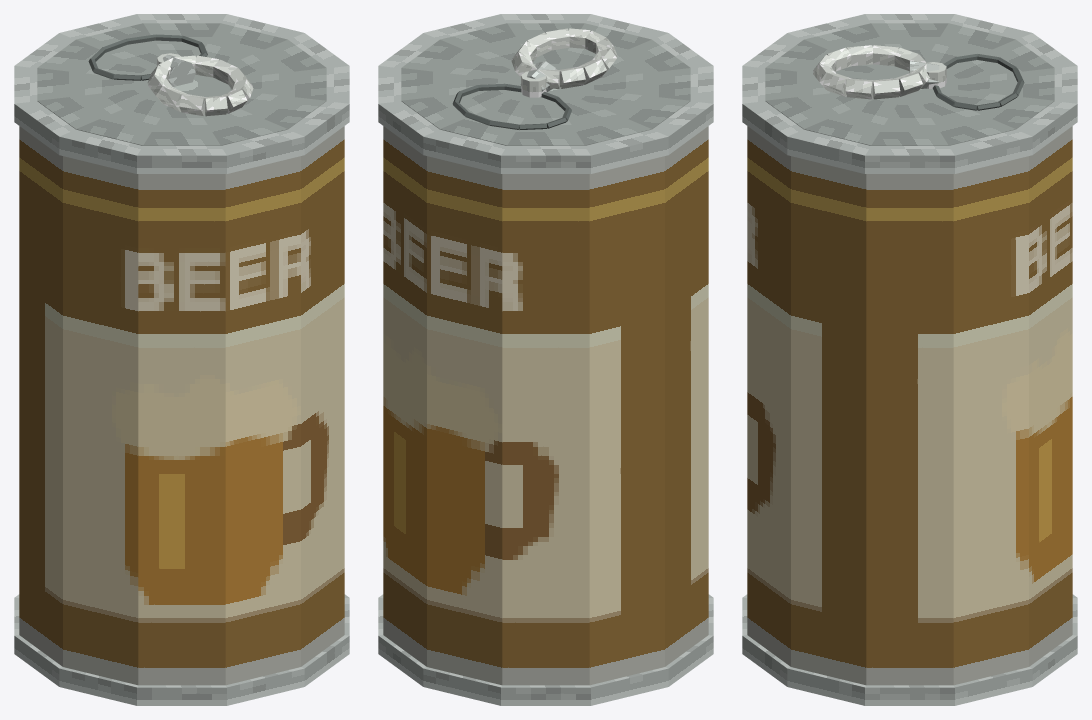
File: beer.glb
3 renders of one model, left to right at view 1: azimuth 30°, elevation 25°; view 2: azimuth 150°, elevation 25°; view 3: azimuth 270°, elevation 25°, orthographic.
Parts seen in each view (by area): view 1: block_illustrated wraparound can label, block_recessed easy-open panel, block_rolled steel top, block_rolled steel base, block_pull tab hinge; view 2: block_illustrated wraparound can label, block_recessed easy-open panel, block_rolled steel top, block_rolled steel base; view 3: block_illustrated wraparound can label, block_recessed easy-open panel, block_rolled steel top, block_rolled steel base, block_raised metal pull ring 0, block_raised metal pull ring 11.
Part boxes in pixels (x1=…): block_illustrated wraparound can label: x1=19, y1=126, x2=344, y2=685; block_recessed easy-open panel: x1=37, y1=23, x2=326, y2=145; block_rolled steel top: x1=14, y1=14, x2=349, y2=173; block_rolled steel base: x1=14, y1=594, x2=349, y2=705; block_pull tab hinge: x1=163, y1=54, x2=195, y2=86; block_illustrated wraparound can label: x1=383, y1=126, x2=708, y2=685; block_recessed easy-open panel: x1=401, y1=23, x2=690, y2=145; block_rolled steel top: x1=378, y1=14, x2=713, y2=173; block_rolled steel base: x1=378, y1=594, x2=713, y2=705; block_illustrated wraparound can label: x1=747, y1=126, x2=1072, y2=685; block_recessed easy-open panel: x1=765, y1=23, x2=1054, y2=145; block_rolled steel top: x1=742, y1=14, x2=1077, y2=173; block_rolled steel base: x1=742, y1=594, x2=1077, y2=705; block_raised metal pull ring 0: x1=845, y1=78, x2=872, y2=99; block_raised metal pull ring 11: x1=873, y1=78, x2=900, y2=99.
Bounding box in the file's own units: 0.0657 × 0.1241 × 0.0657.
Materials: 1 (1 with a texture image).
